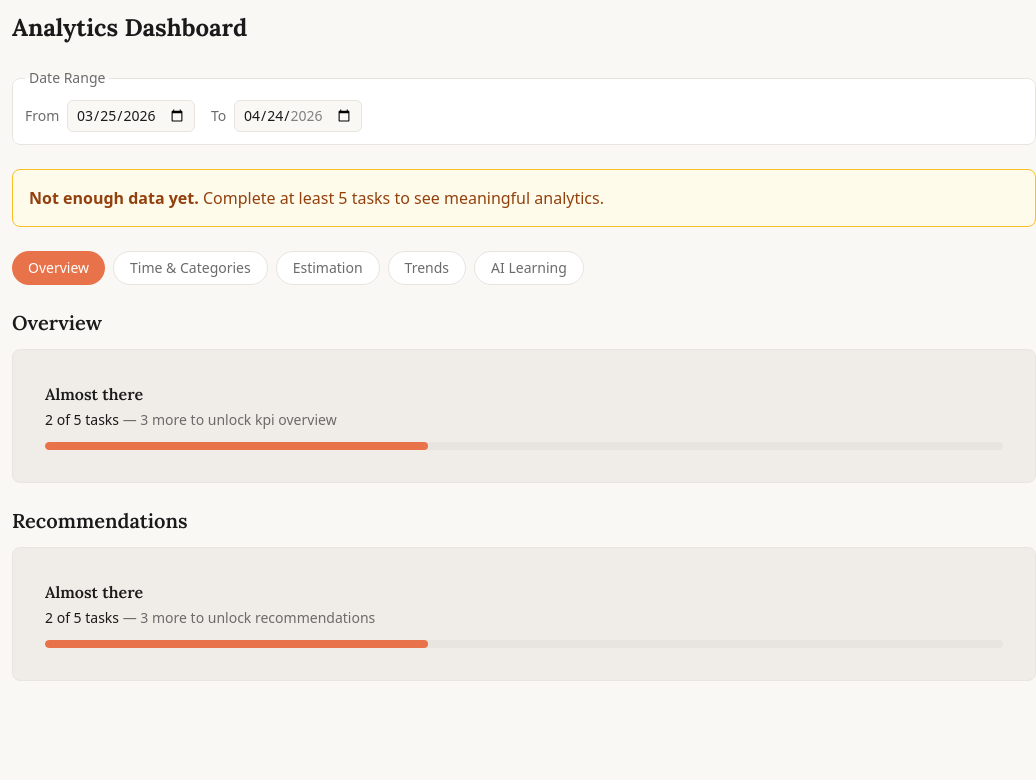
Test: AnalyticsDashboard › low-data states › shows Recent Changes low-data state when daysOfData < 14
# Recent Changes is on the "AI Learning" tab
Click the button "AI Learning" at (529, 268), box [474,251,584,285]
(page scrolled)
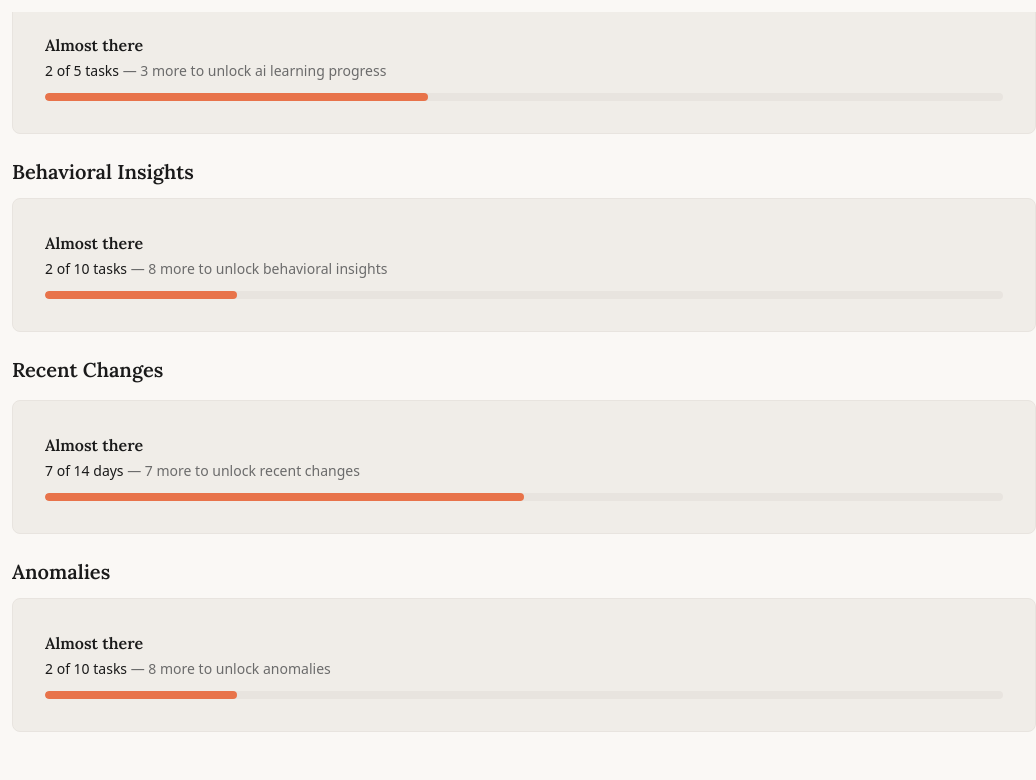
Result: the element named "Recent Behavioral Changes" is shown at [12,356,1035,534]
